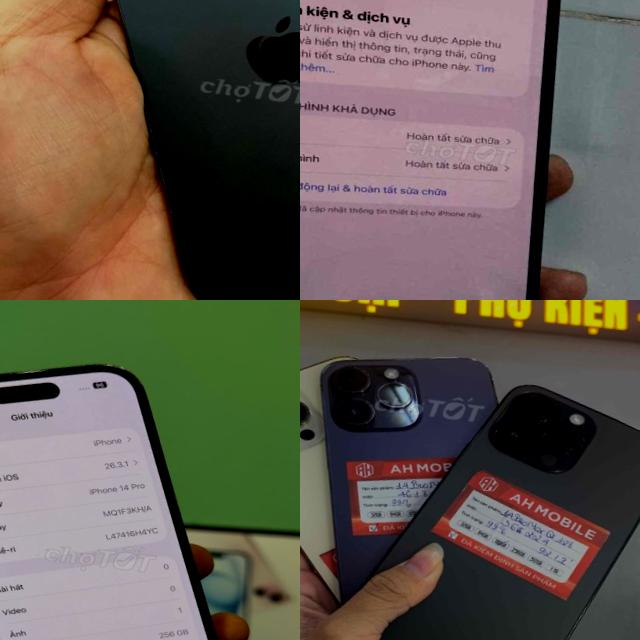gen_12_13: (300, 0, 589, 300)
gen_14: (376, 385, 640, 640), (300, 380, 487, 640)
gen_15: (16, 0, 300, 300), (0, 341, 273, 640)
